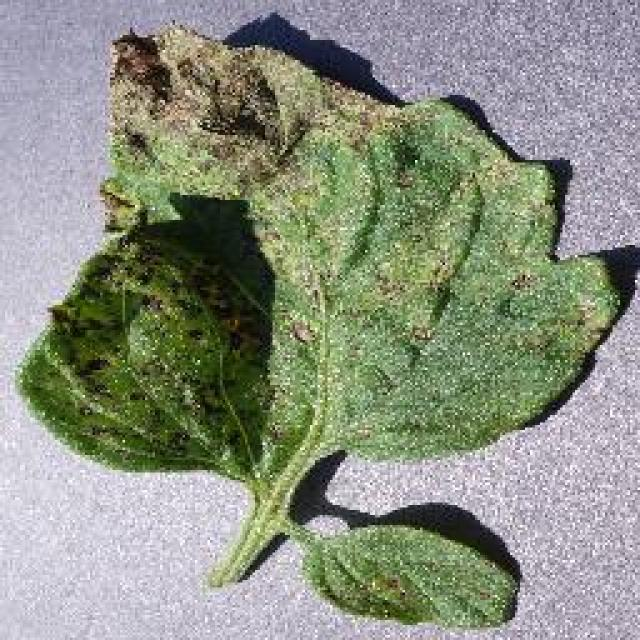Tomato___Septoria_leaf_spot: (18, 25, 625, 625)
